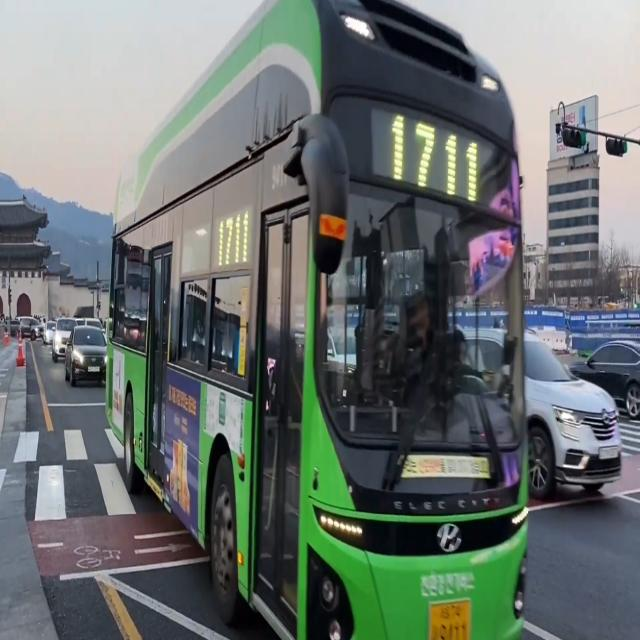bus-number: (387, 106, 481, 214)
